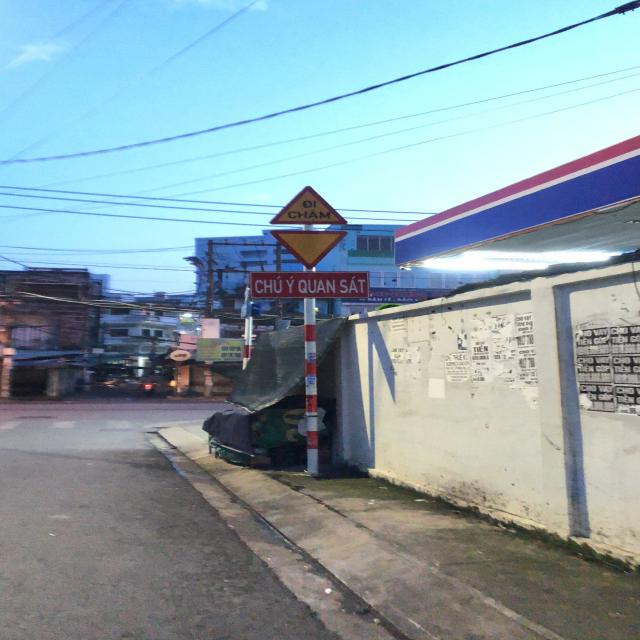Bien bao di cham: (264, 182, 353, 228)
Bien bao giao nhau voi duong uu tien: (268, 226, 354, 270)
